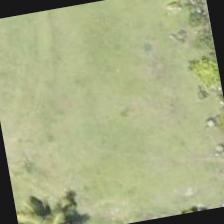Kelapa_Sawit: (10, 167, 101, 223)
